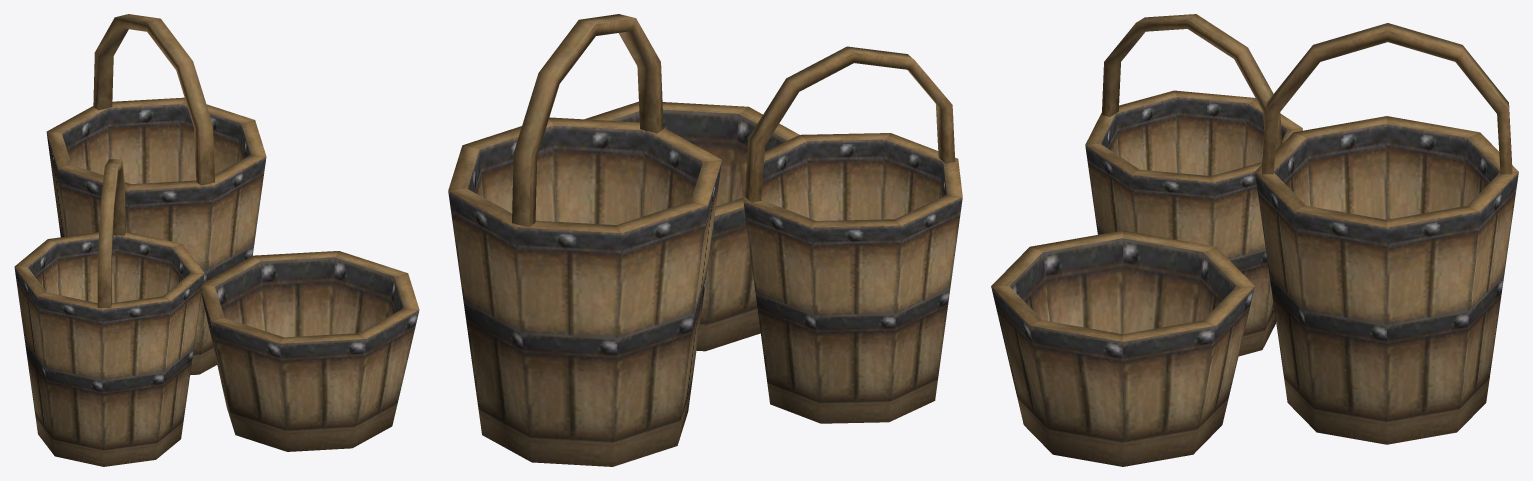
Rendered from euro_esteuro_basketdummy.glb.
3 renders of one model, left to right at view 1: azimuth 30°, elevation 25°; view 2: azimuth 150°, elevation 25°; view 3: azimuth 270°, elevation 25°, orthographic. The views are drawn at different scales.
Parts seen in each view (by area): view 1: euro_esteuro_basketdummy; view 2: euro_esteuro_basketdummy; view 3: euro_esteuro_basketdummy.
Boxes of the visible parts, x1,y1,x2,y2 form: euro_esteuro_basketdummy: [14, 14, 419, 466]; euro_esteuro_basketdummy: [448, 14, 962, 466]; euro_esteuro_basketdummy: [991, 14, 1518, 466].
Size of the model in its own units: 1.28 by 1.14 by 1.45.
Materials: 1 (1 with a texture image).
